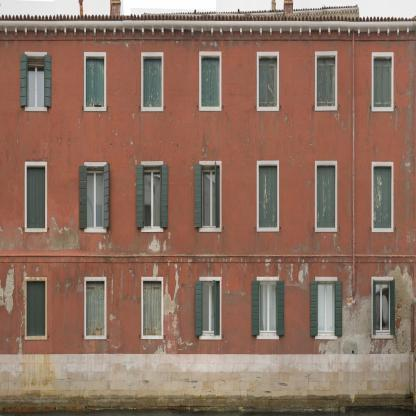Building Outline: (0, 0, 416, 409)
Facade: (0, 0, 416, 409)
Floor: (0, 152, 415, 255)
Floor Slab: (0, 143, 415, 152), (0, 255, 415, 264)
Ground Floor: (0, 264, 415, 409)
Molding: (0, 21, 416, 39)
Top Floor: (0, 39, 415, 143)
Window: (201, 165, 220, 228), (317, 165, 336, 228), (143, 166, 162, 228), (374, 165, 392, 228), (259, 165, 277, 228), (86, 166, 104, 228), (27, 166, 45, 228), (373, 281, 392, 335), (86, 281, 105, 335), (143, 281, 162, 335), (201, 281, 220, 335), (27, 281, 45, 335), (259, 281, 277, 335), (317, 281, 335, 335), (143, 56, 162, 107), (373, 56, 392, 106), (201, 56, 220, 106), (86, 56, 104, 107), (27, 56, 45, 107), (259, 56, 277, 106), (317, 56, 335, 106)
